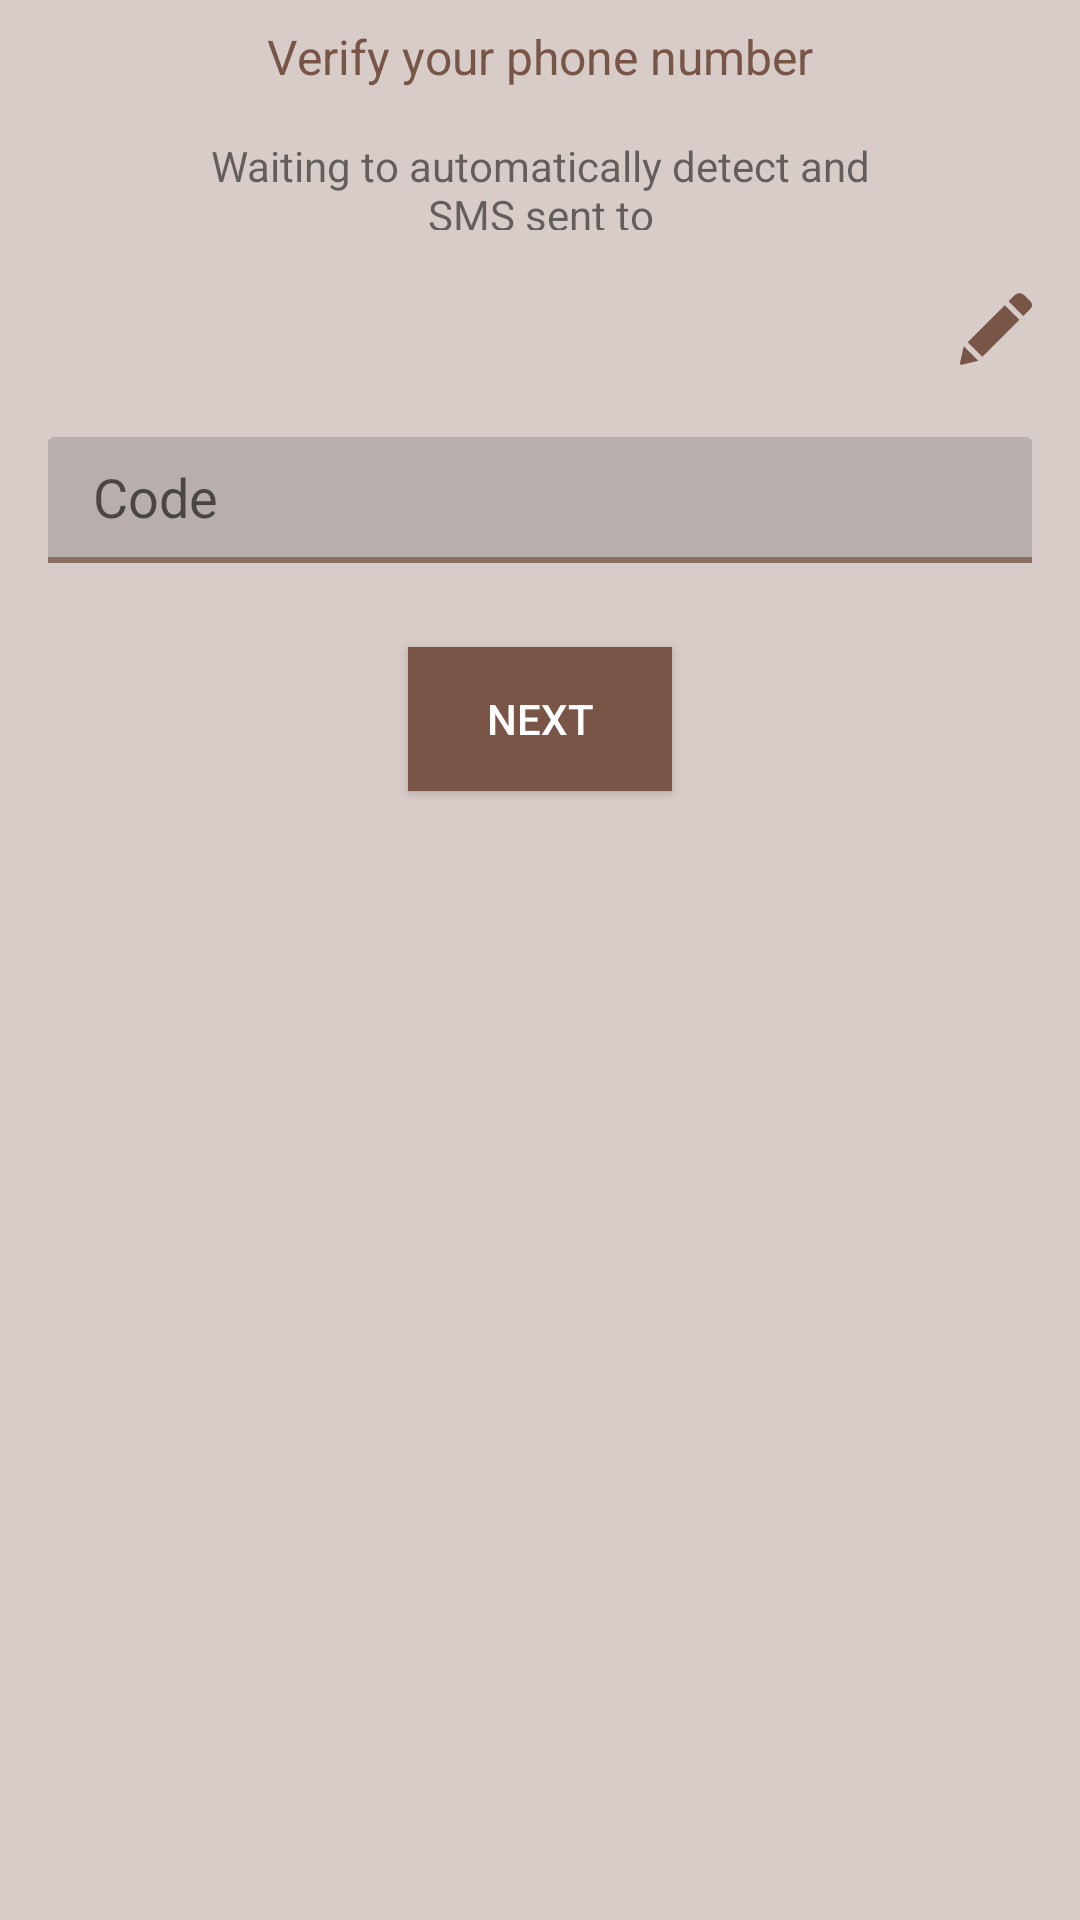

Icons on this 1080px x 1920px Android screen, each with the point to tap as [x,y]:
pencil edit: [996,329]
